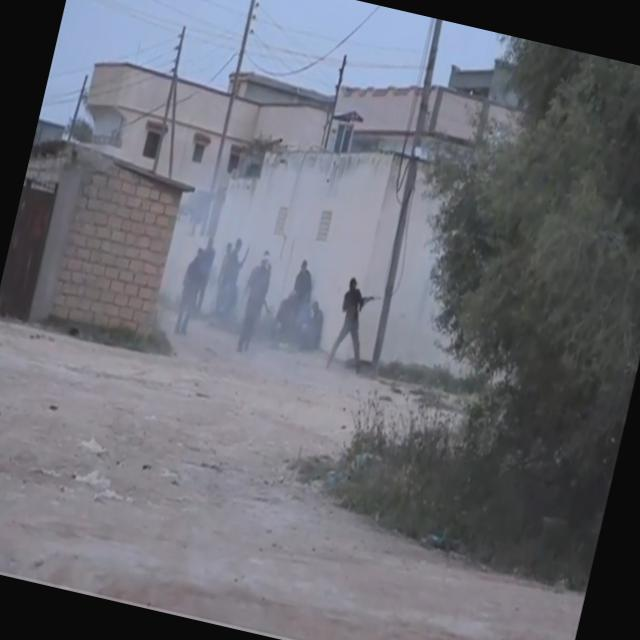long weapon: (340, 292, 379, 317)
